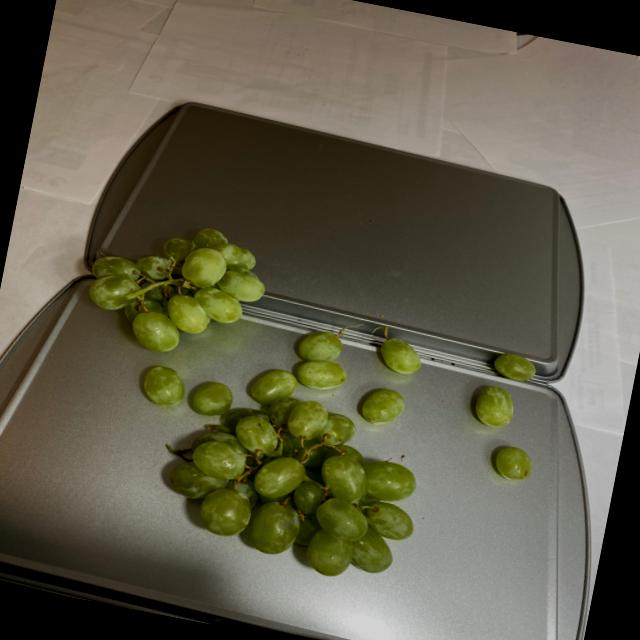grapes: (46, 210, 566, 610)
